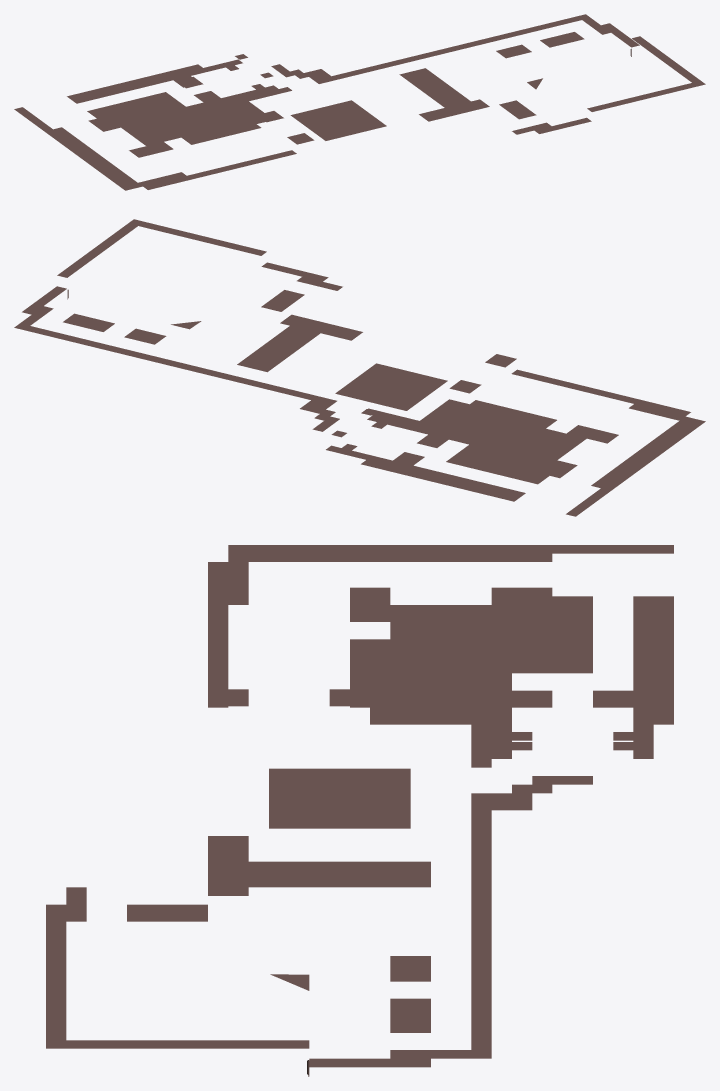
The model's file is GB_Roofs.fbx.
3 renders of one model, top to bottom at view 1: azimuth 30°, elevation 25°; view 2: azimuth 150°, elevation 25°; view 3: azimuth 270°, elevation 25°, orthographic. The views are drawn at different scales.
Visible parts, largest first — view 1: Platform.000; view 2: Platform.000; view 3: Platform.000.
Part boxes in pixels (box(x1,y1,x2,y2)): Platform.000: box(14, 14, 705, 190); Platform.000: box(14, 219, 705, 516); Platform.000: box(46, 545, 673, 1076).
Size of the model in its own units: 18300 by 900 by 9300.
